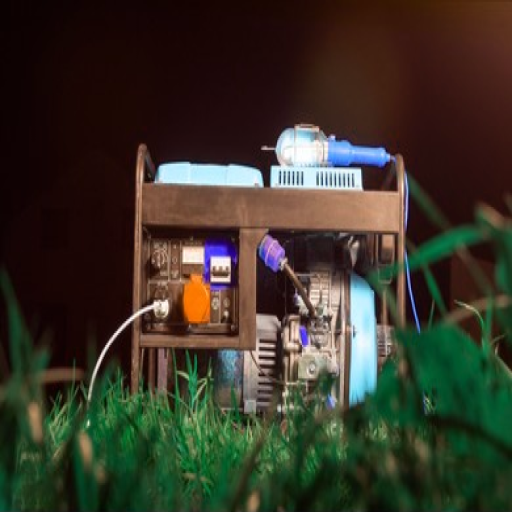portable_generator: (133, 142, 408, 430)
